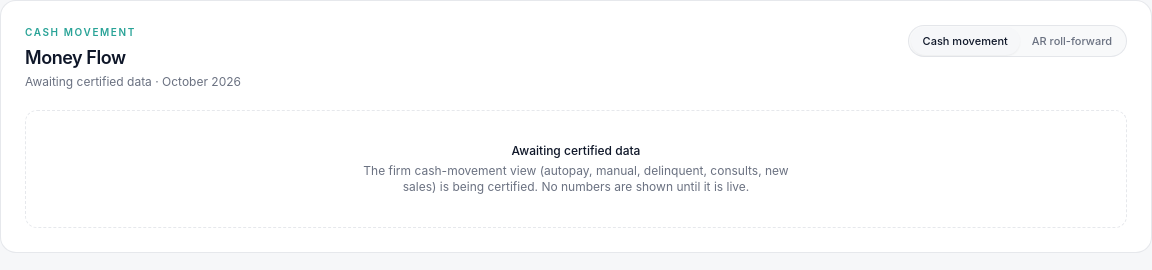
Test: Cash Movement panel › the AR roll-forward stays reachable on its own tab
Expected: the text "AR DONUT CONTENT" is not shown
Press the mouse on the tab "AR roll-forward" at (1072, 41), box 1020,27 -> 1124,55
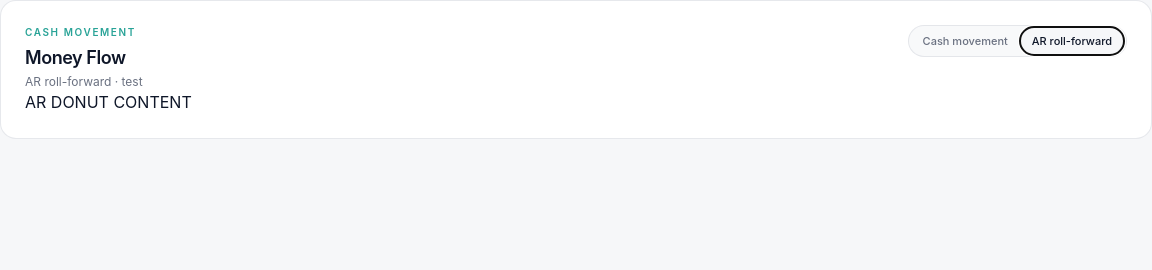
Result: the text "AR DONUT CONTENT" is shown at 25,92 -> 192,112
Result: the text "AR roll-forward · test" is shown at 25,74 -> 143,90
